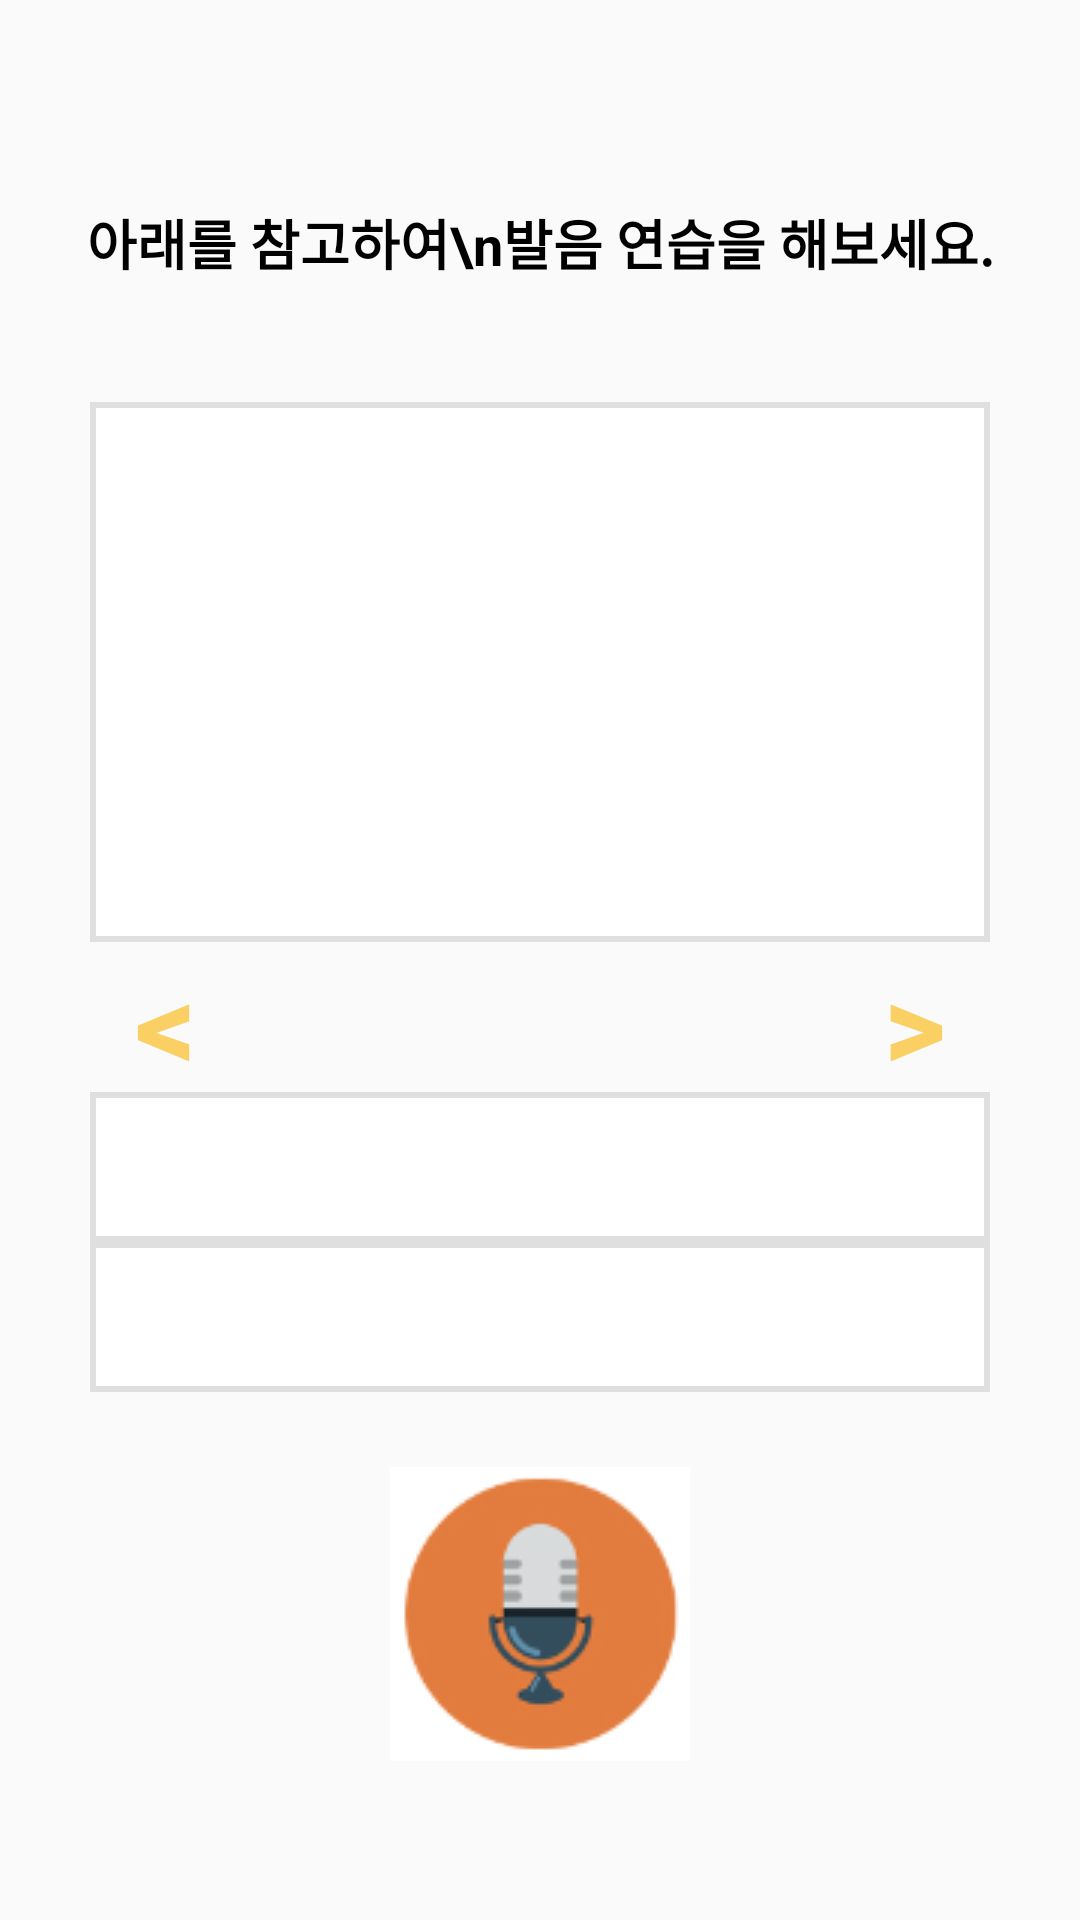

Screen size 1080×1920. Icon name, then its box in pixels as (x1, y1, x2, y2):
mic: (404, 1478, 678, 1750)
